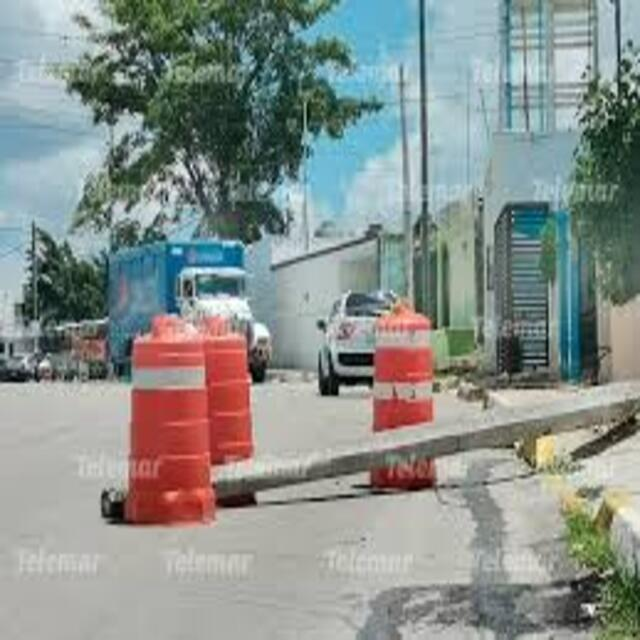Inclined Pole: (208, 379, 636, 503)
